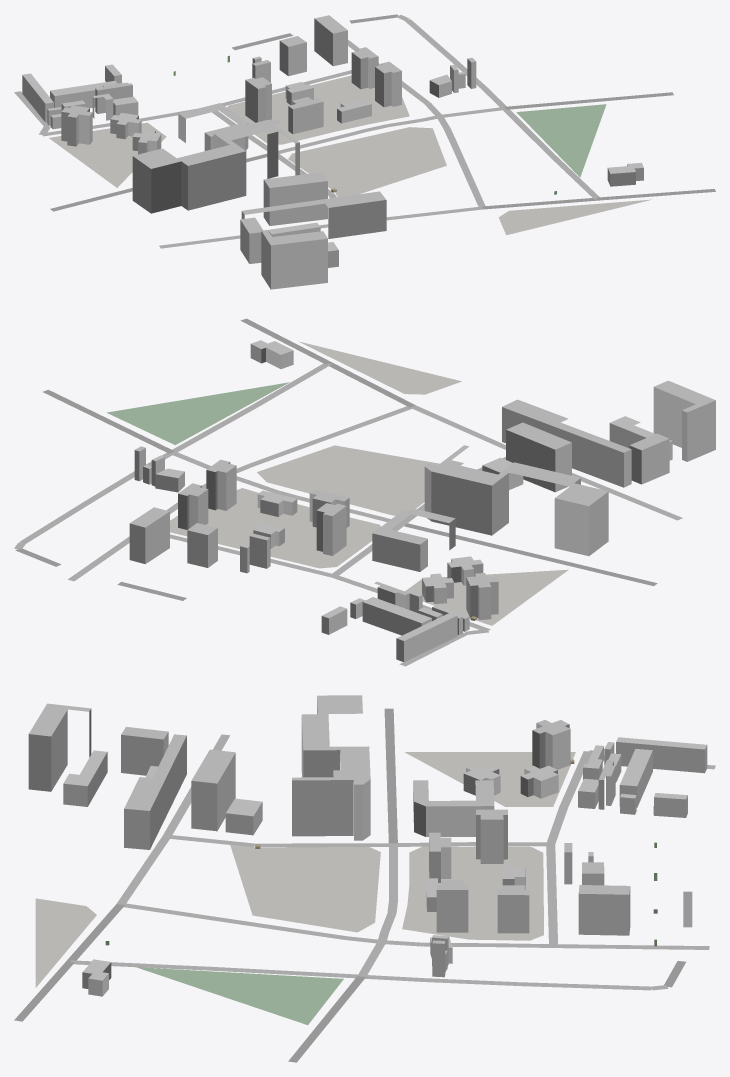
The picture shows the model from 3 angles, top to bottom: view 1: azimuth 30°, elevation 25°; view 2: azimuth 150°, elevation 25°; view 3: azimuth 270°, elevation 25°; orthographic projection. The views are drawn at different scales.
Bounding box in the file's own units: 648 × 47.83 × 538.
